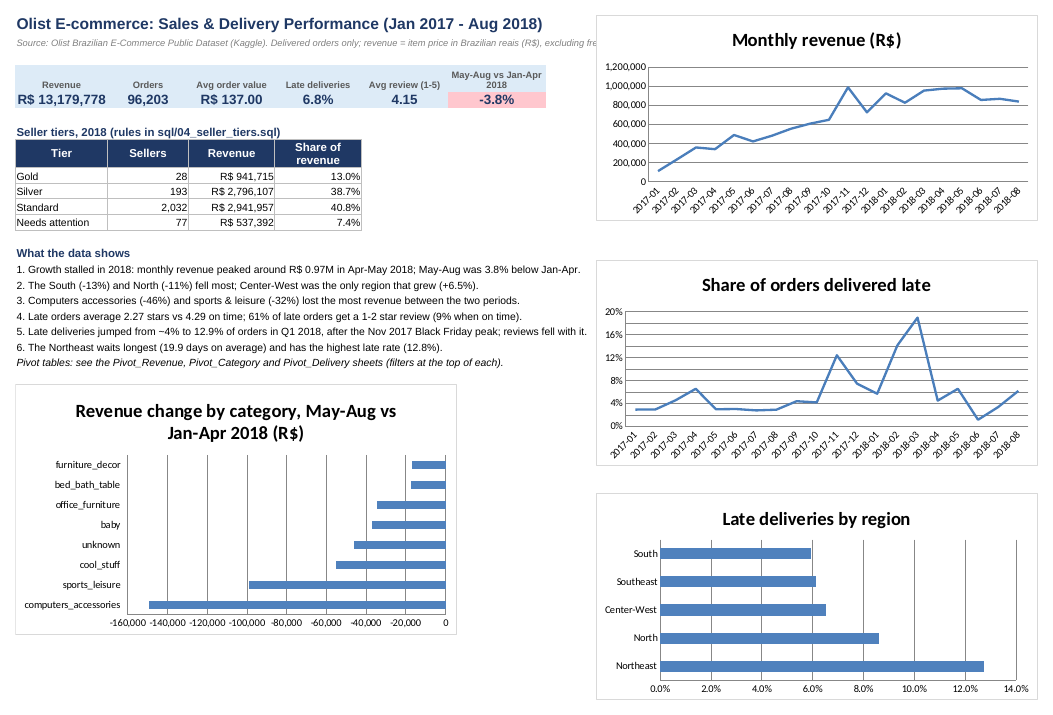

This screenshot's page, from the dashboard's own definition file:
{"tool":"powerbi","page":{"name":"Page 1","canvas":[1920,1080],"ordinal":0},"visuals":[{"type":"cardVisual","fields":{"Data":["Sales_Data.Revenue"]},"box":[10,0,280,280],"z":0},{"type":"cardVisual","fields":{"Data":["Sales_Data.Orders"]},"box":[10,290,280,280],"z":1000},{"type":"cardVisual","fields":{"Data":["Sales_Data.Late %"]},"box":[10,580,280,280],"z":2000},{"type":"lineChart","fields":{"Category":["Sales_Data.order_month"],"Y":["Sales_Data.Revenue"]},"box":[311,23.8,846.7,429.8],"z":3000},{"type":"lineChart","fields":{"Category":["Sales_Data.order_month"],"Y":["Sales_Data.Late %"]},"box":[311,468.7,846.7,337],"z":3001},{"type":"barChart","fields":{"Category":["Sales_Data.region"],"Y":["Sales_Data.Late %"]},"box":[1168,24,752,430],"z":3002},{"type":"barChart","fields":{"Category":["Sales_Data.category"],"Y":["Sales_Data.Revenue"]},"box":[1168,469,752,337],"z":3003},{"type":"slicer","fields":{"Values":["Sales_Data.region"]},"box":[10,870,280,210],"z":3004},{"type":"slicer","fields":{"Values":["Sales_Data.order_year"]},"box":[311,870,847,210],"z":3005}]}

Visuals, with their boxes on the page's 1920x1080 design canvas (x1, y1, x2, y2). These are canvas units, not pixel positions in the 1053x715 screenshot, which may show the page scaled, cropped or inside an application window:
cardVisual - Sales_Data.Revenue: left=10, top=0, right=290, bottom=280
cardVisual - Sales_Data.Orders: left=10, top=290, right=290, bottom=570
cardVisual - Sales_Data.Late %: left=10, top=580, right=290, bottom=860
lineChart - Sales_Data.order_month x Sales_Data.Revenue: left=311, top=24, right=1158, bottom=454
lineChart - Sales_Data.order_month x Sales_Data.Late %: left=311, top=469, right=1158, bottom=806
barChart - Sales_Data.region x Sales_Data.Late %: left=1168, top=24, right=1920, bottom=454
barChart - Sales_Data.category x Sales_Data.Revenue: left=1168, top=469, right=1920, bottom=806
slicer - Sales_Data.region: left=10, top=870, right=290, bottom=1080
slicer - Sales_Data.order_year: left=311, top=870, right=1158, bottom=1080
